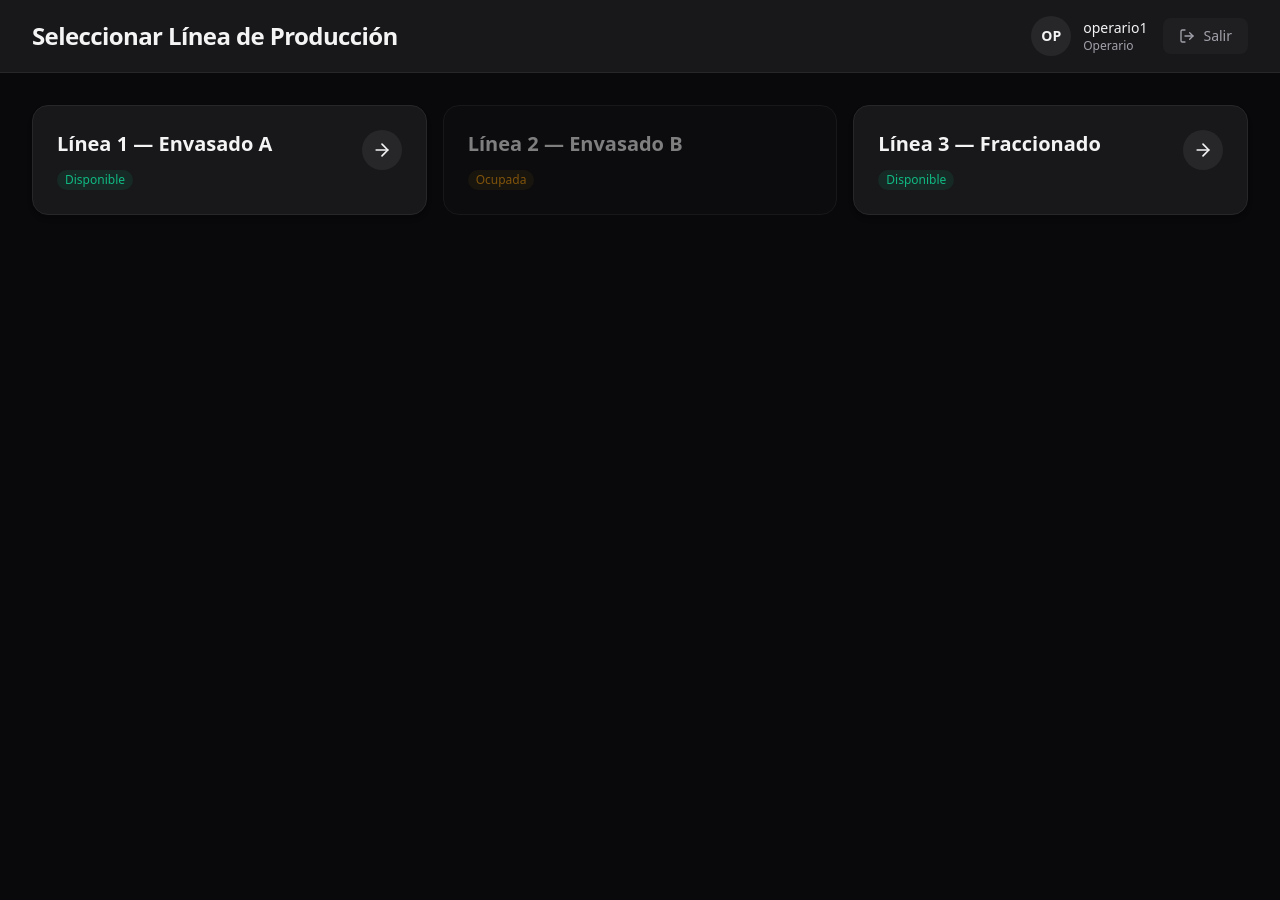
Test: SeleccionLineaPage › muestra un toast de error con el mensaje del backend cuando la línea está ocupada (409)
Click the text "Línea 1 — Envasado A" at point(165, 144), box top-left (57, 130), bottom-right (272, 158)
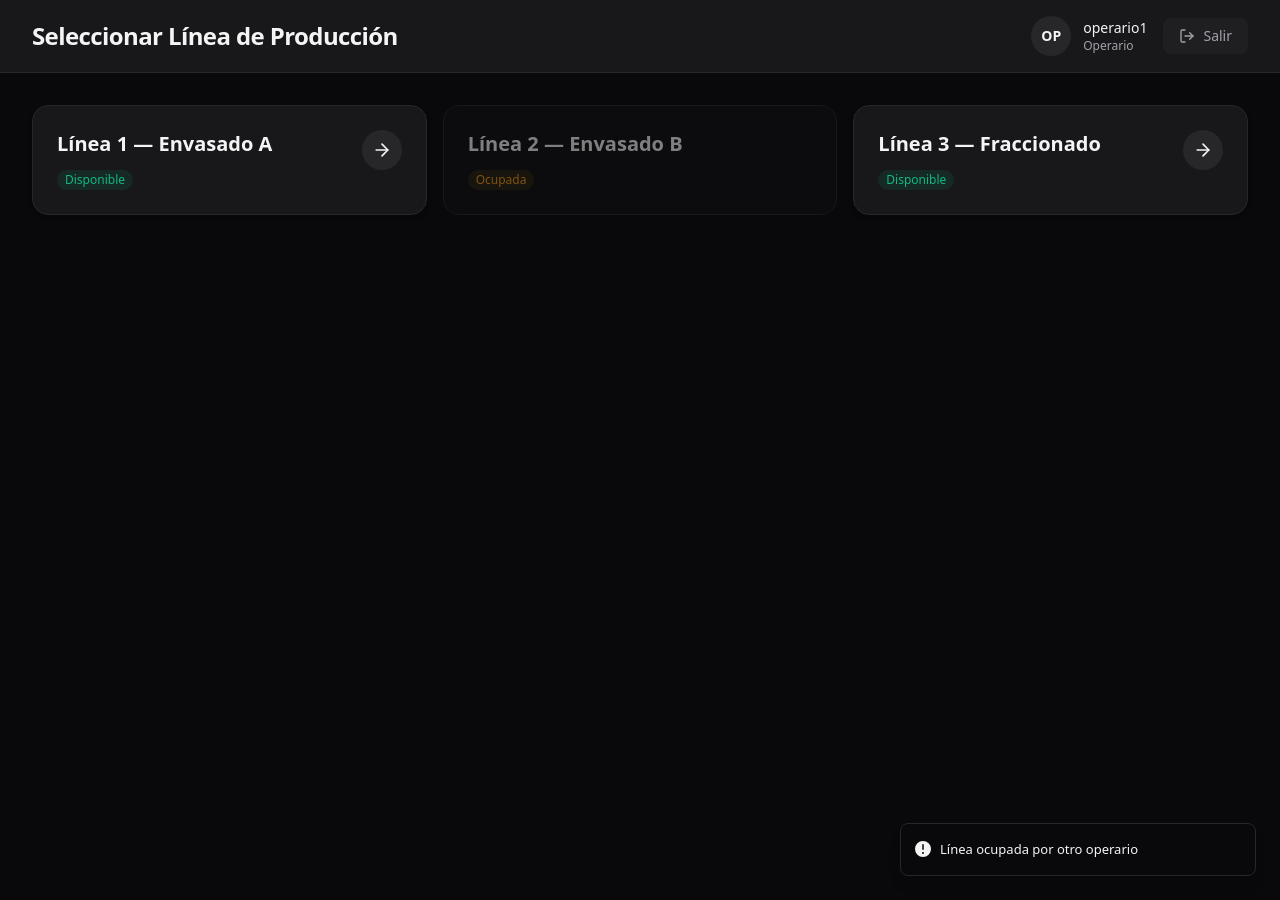
Now the text "Línea ocupada por otro operario" is shown, box top-left (940, 840), bottom-right (1138, 859)
